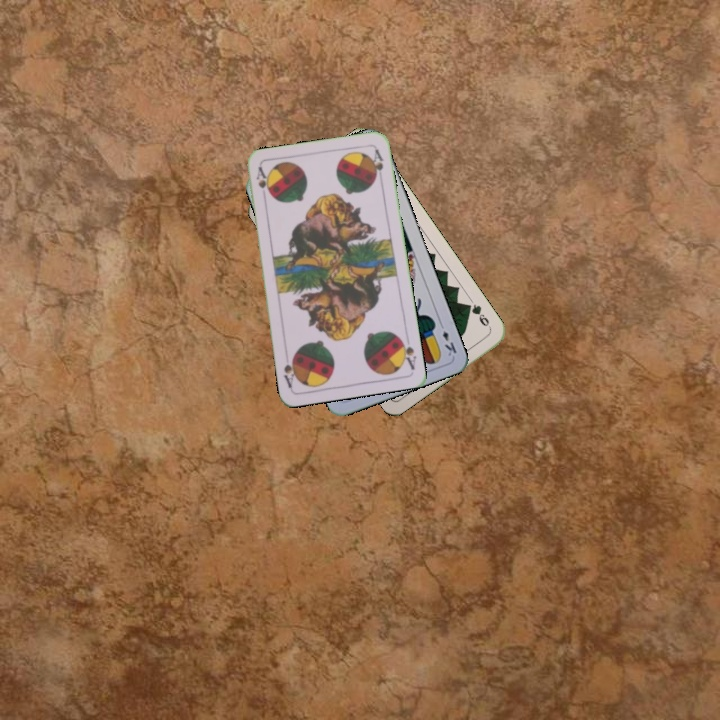EK: (435, 318, 459, 359)
G9: (462, 300, 494, 332)
SA: (395, 333, 419, 372), (252, 163, 270, 204)
